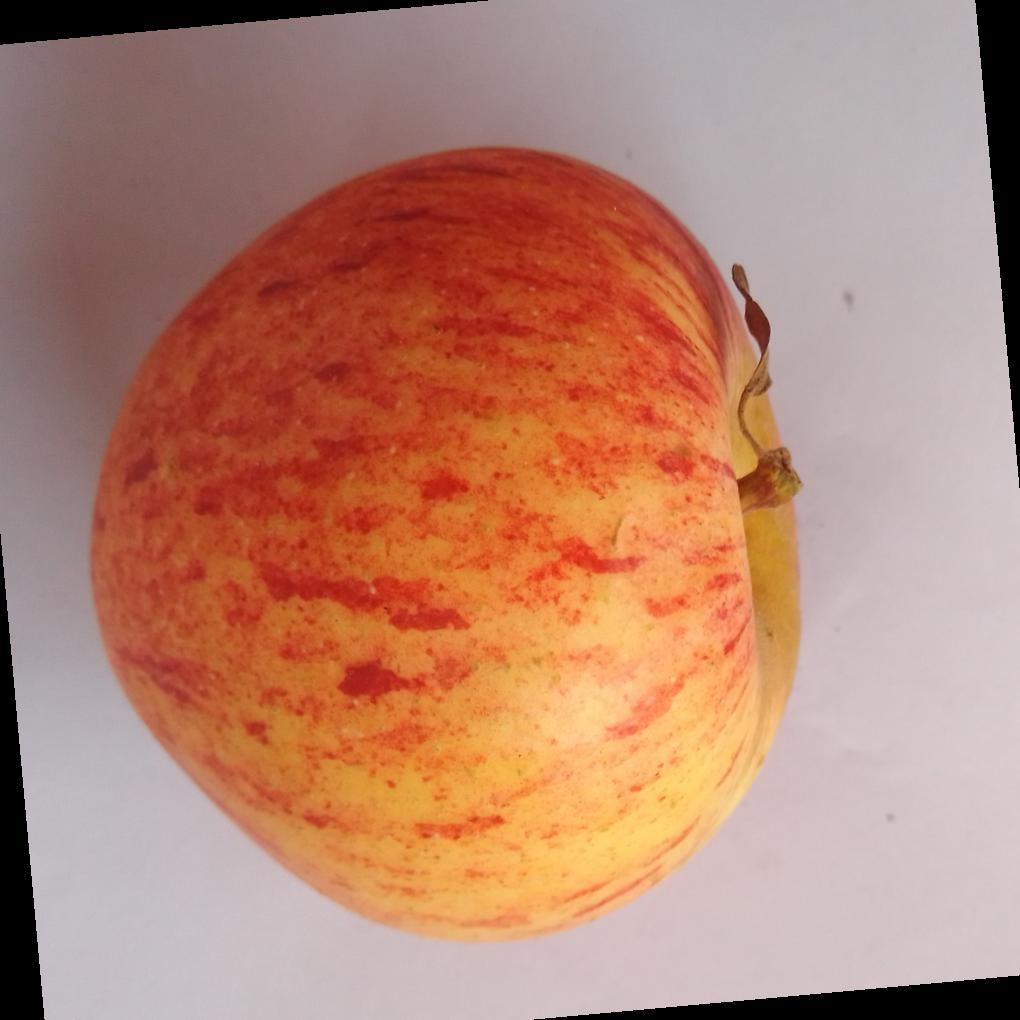FreshGuava: (85, 146, 801, 947)
